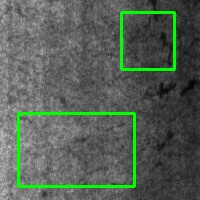crazing: (19, 113, 134, 186), (121, 13, 174, 69)
